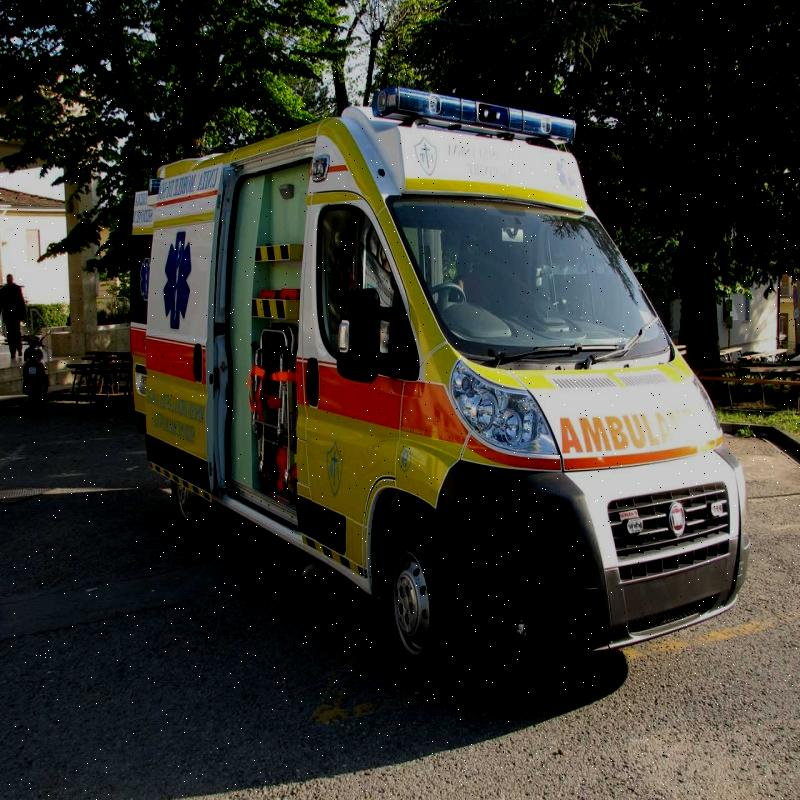AmbulanceSiren: (374, 77, 578, 141)
